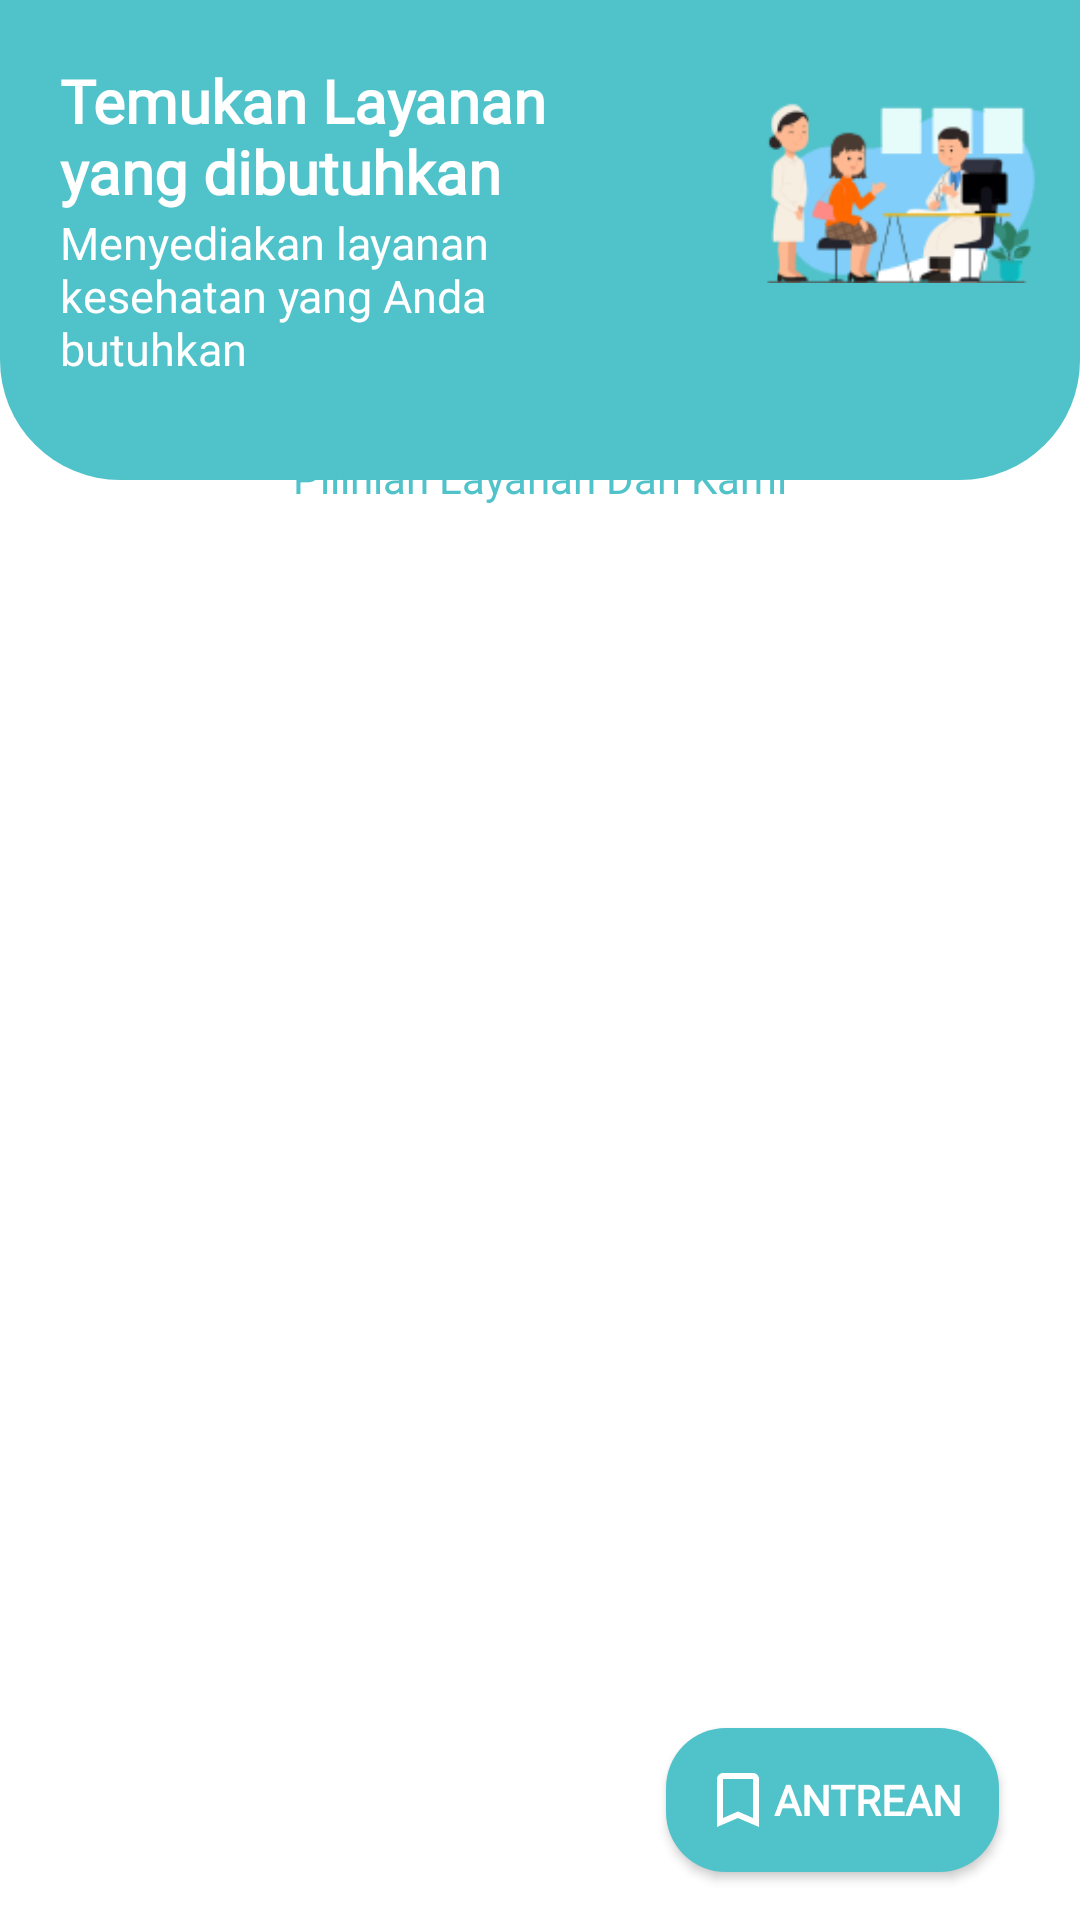

Icons on this 1080×1920 Android screen, each with the point to tap as [x,y]:
mainimg: [900,193]
